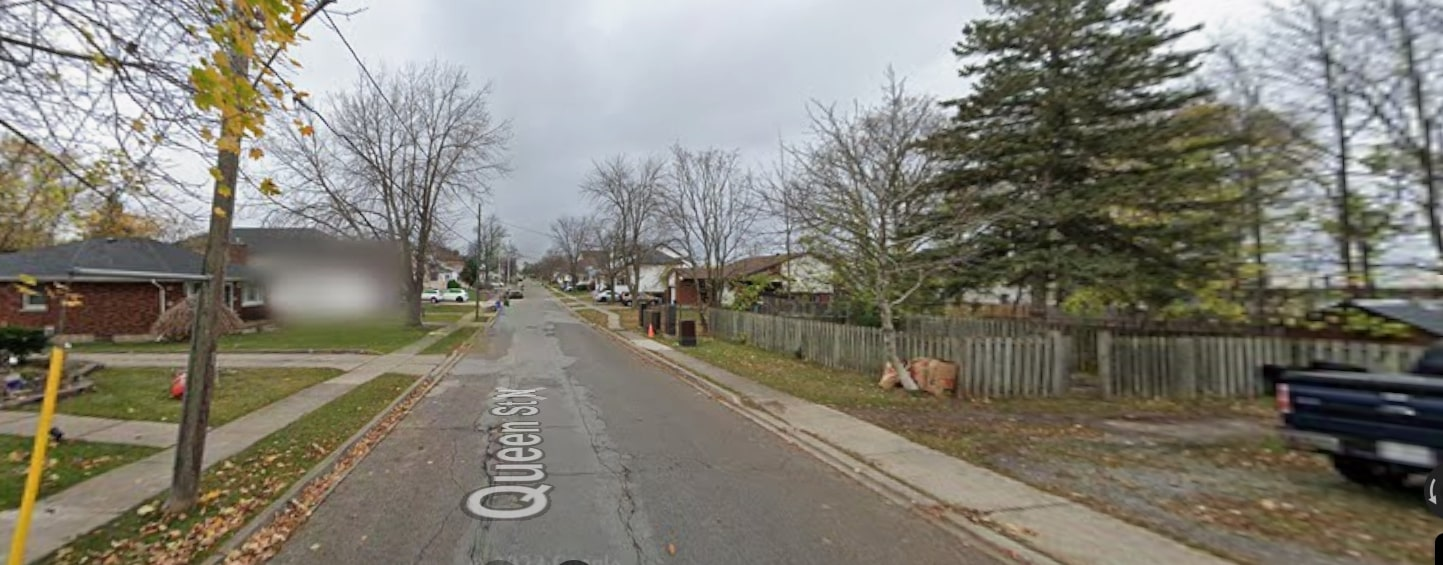cracks: (445, 420, 515, 565), (591, 447, 659, 565), (529, 318, 588, 383)
